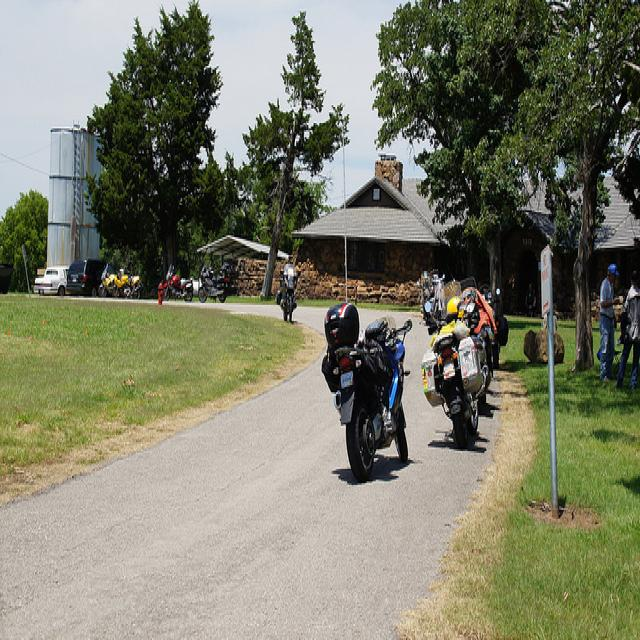motor: (321, 301, 411, 483), (421, 287, 497, 451), (276, 263, 298, 326), (162, 261, 194, 304), (198, 260, 227, 304), (99, 264, 132, 298), (426, 273, 447, 322)
